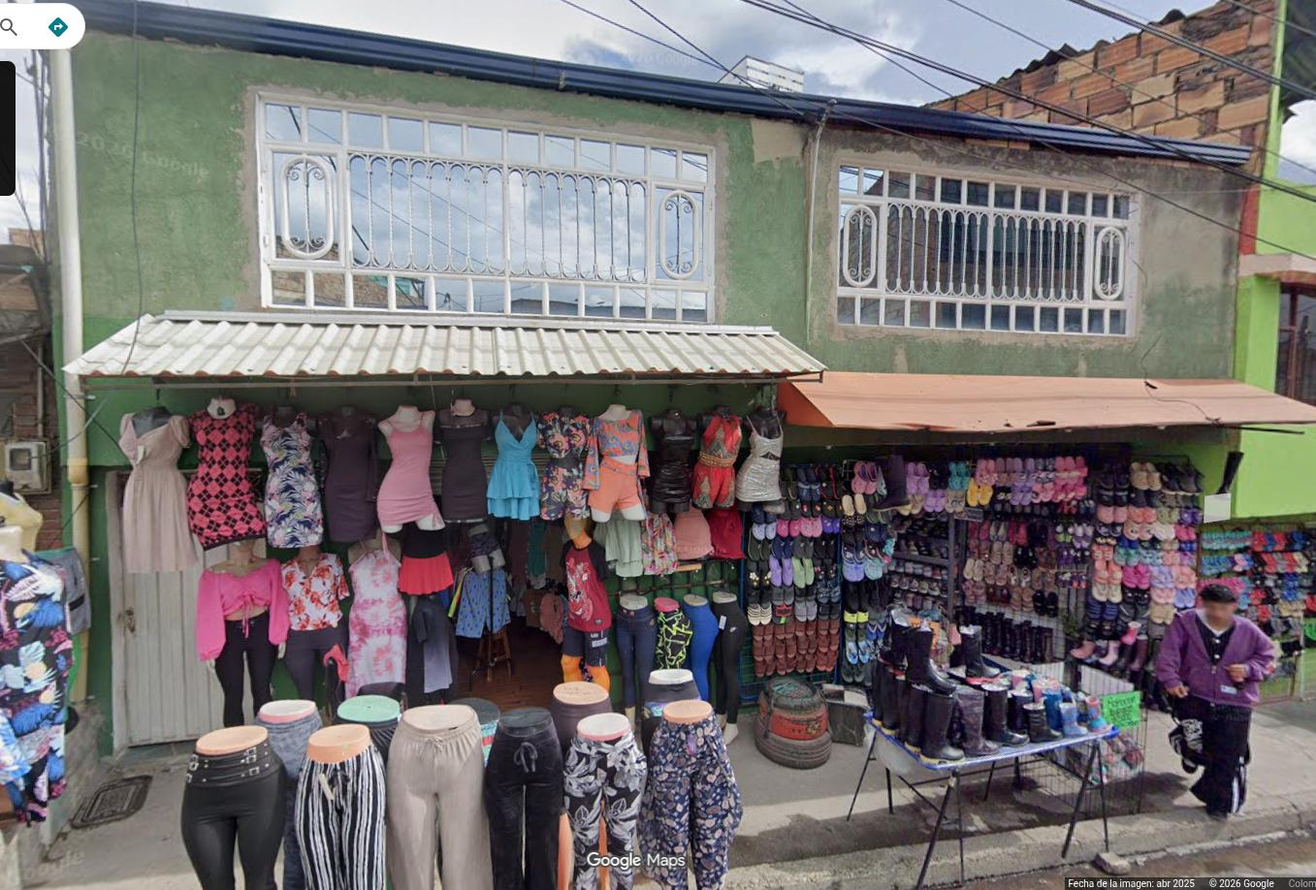casa: (55, 0, 1315, 746)
